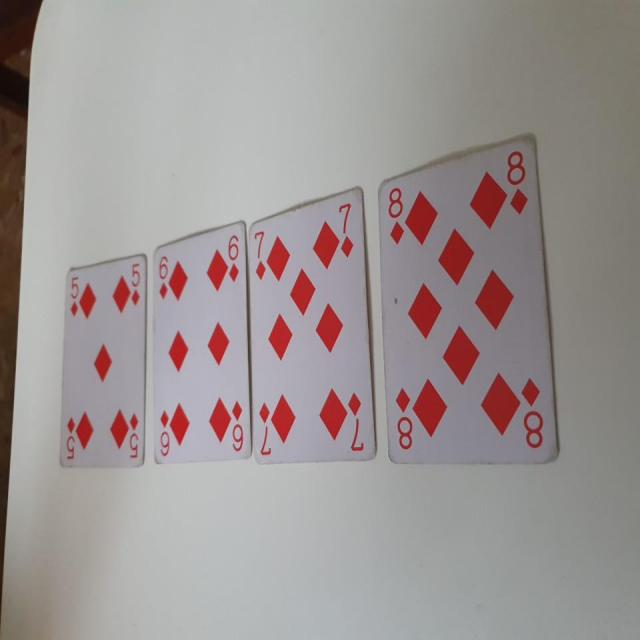5 Diamonds: (56, 251, 148, 468)
6 Diamonds: (150, 216, 250, 461)
7 Diamonds: (246, 188, 376, 468)
8 Diamonds: (378, 133, 562, 465)
